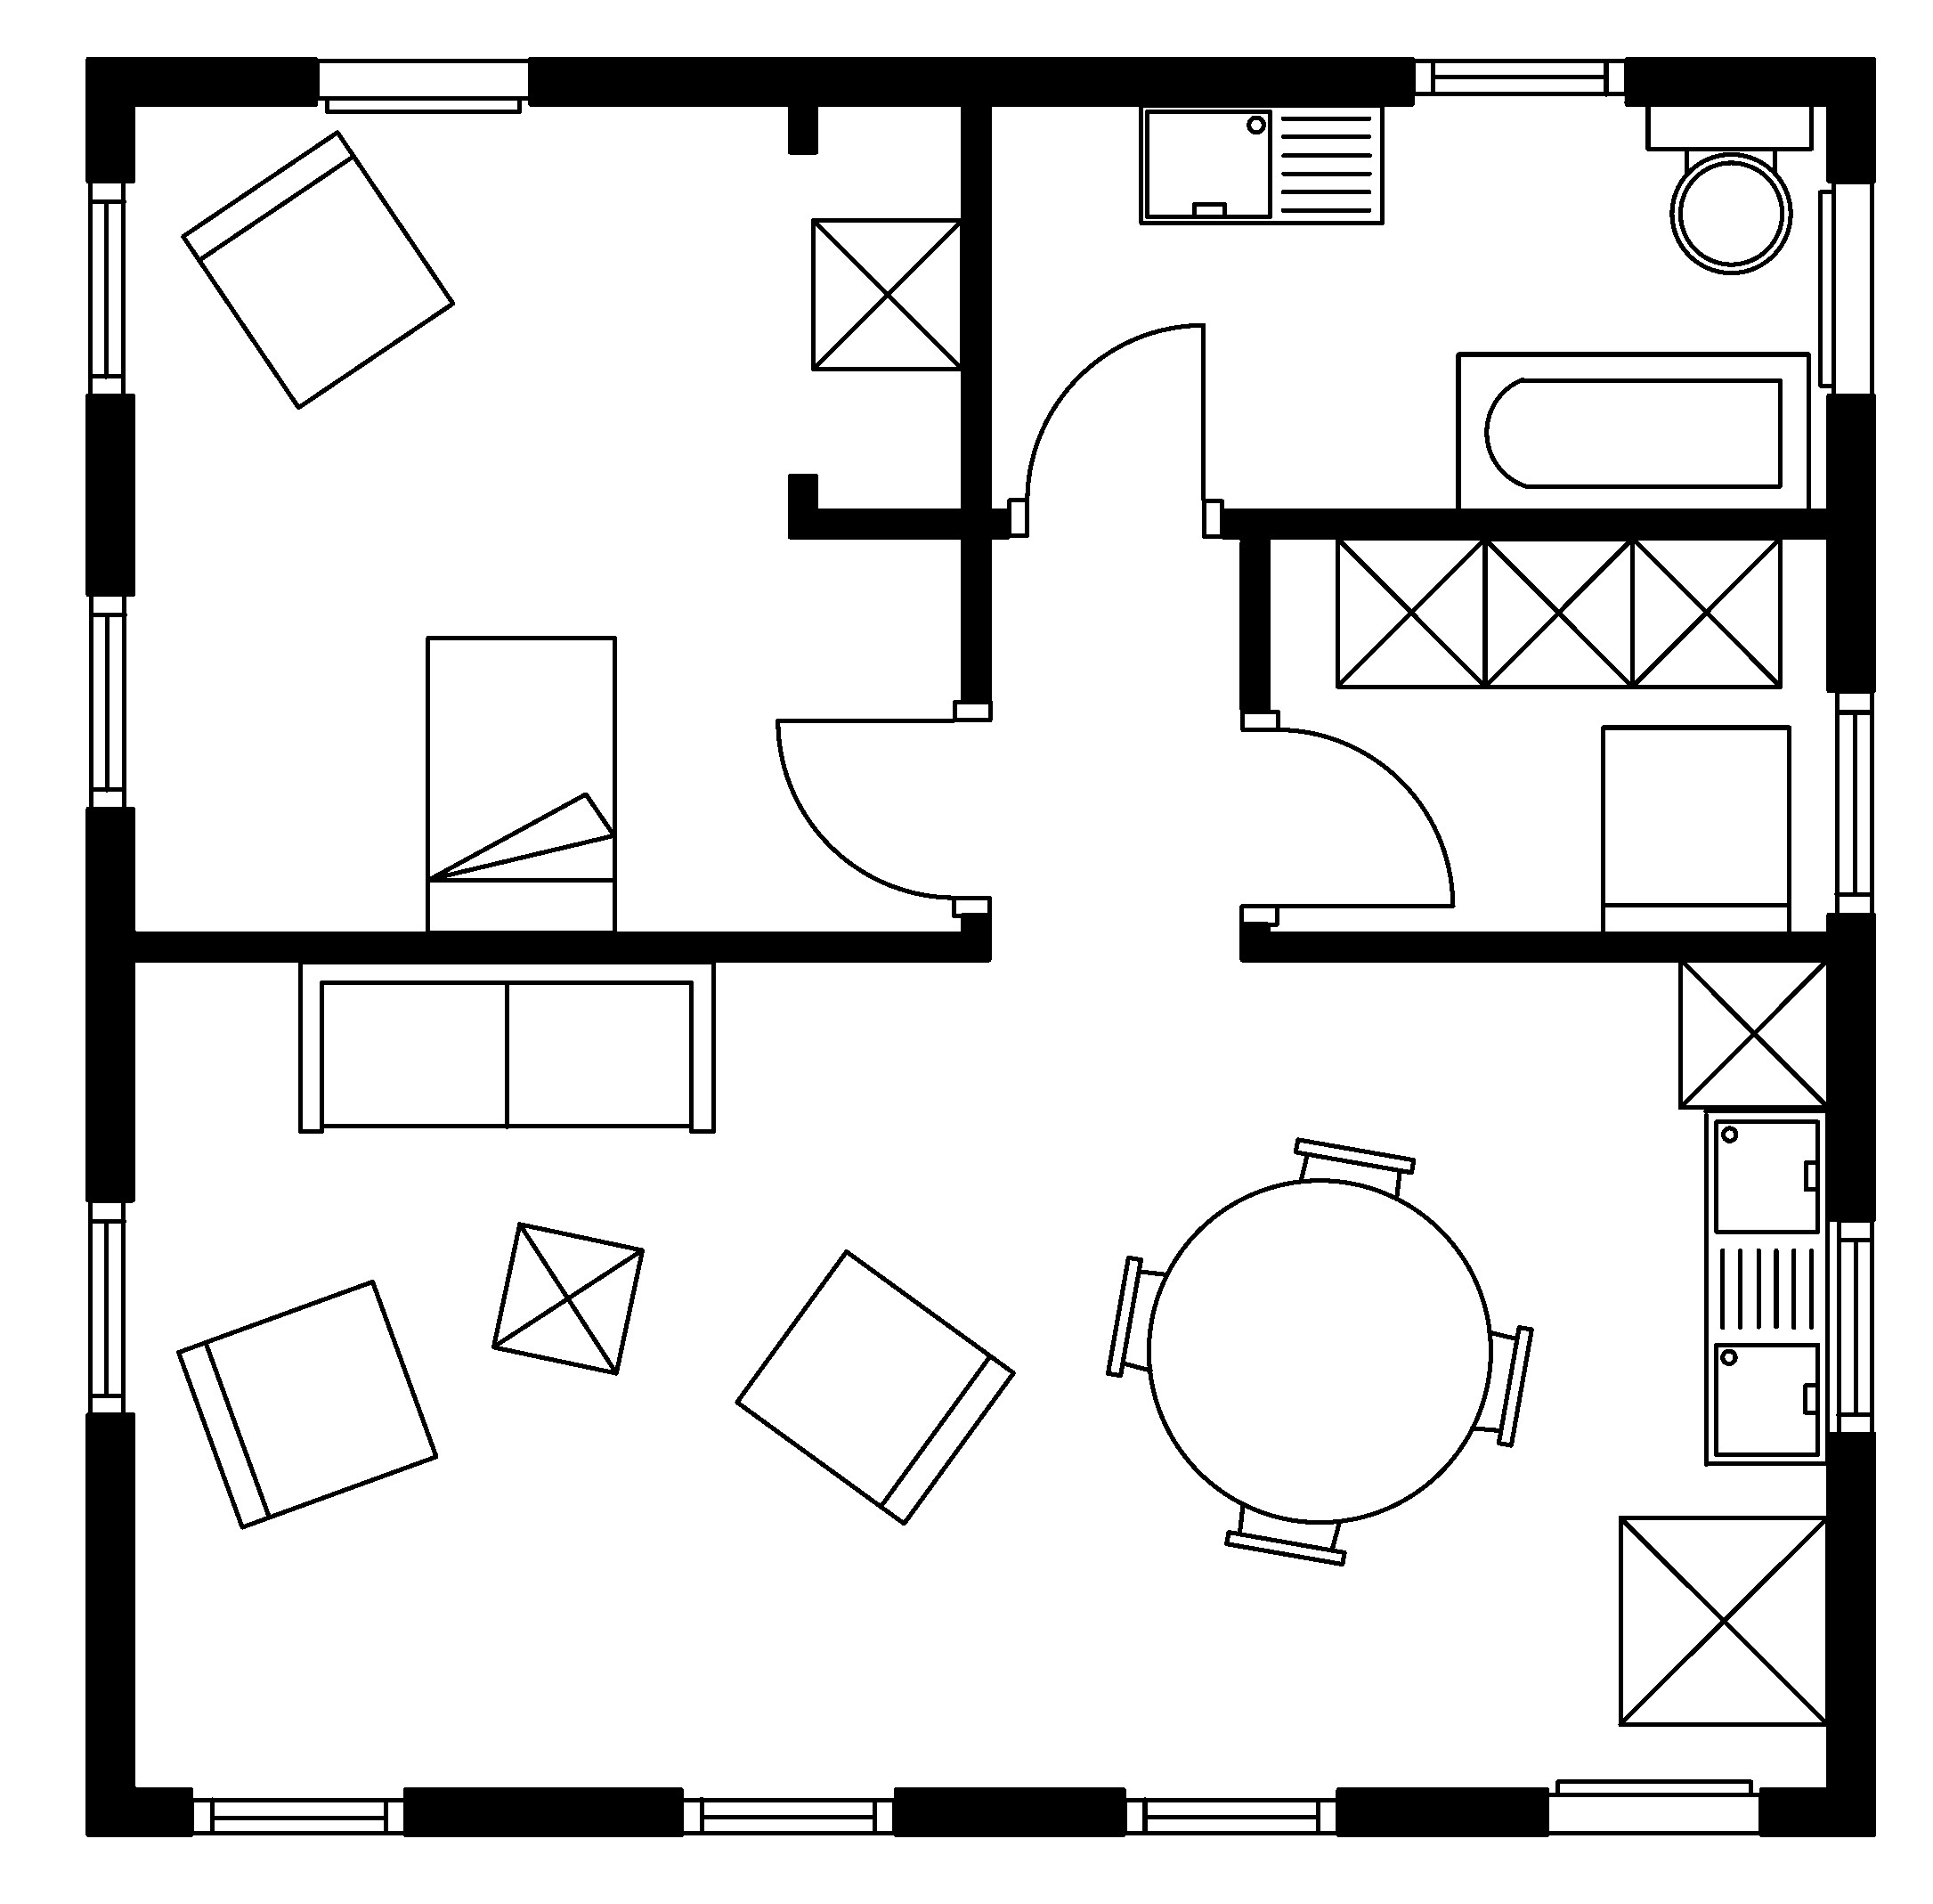bed: (424, 635, 619, 935)
coffee_table: (1616, 1513, 1830, 1728), (809, 216, 966, 371), (490, 1221, 645, 1376), (1480, 534, 1635, 689), (1628, 534, 1783, 689), (1333, 534, 1489, 689), (1675, 955, 1830, 1111)
large_sink: (1644, 101, 1814, 274)
large_sofa: (296, 959, 716, 1135)
round_table: (1103, 1135, 1534, 1567)
sink: (1136, 101, 1384, 227)
small_sofa: (732, 1248, 1016, 1526), (180, 129, 457, 410), (174, 1278, 439, 1529), (1598, 724, 1792, 936)
tub: (1454, 350, 1811, 513)
twin_sink: (1701, 1107, 1830, 1468)
